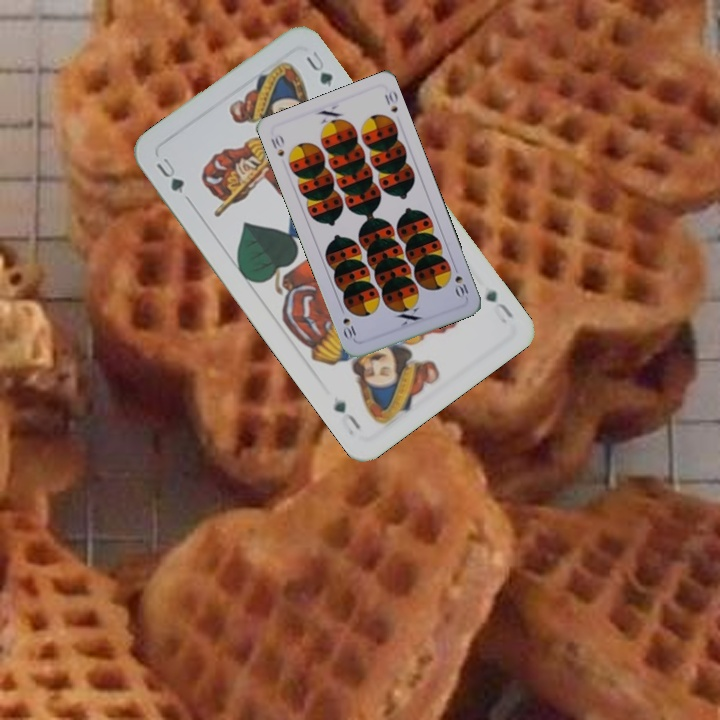GU: (152, 153, 187, 197), (481, 286, 517, 327)
S10: (449, 261, 473, 301), (267, 131, 287, 159)
